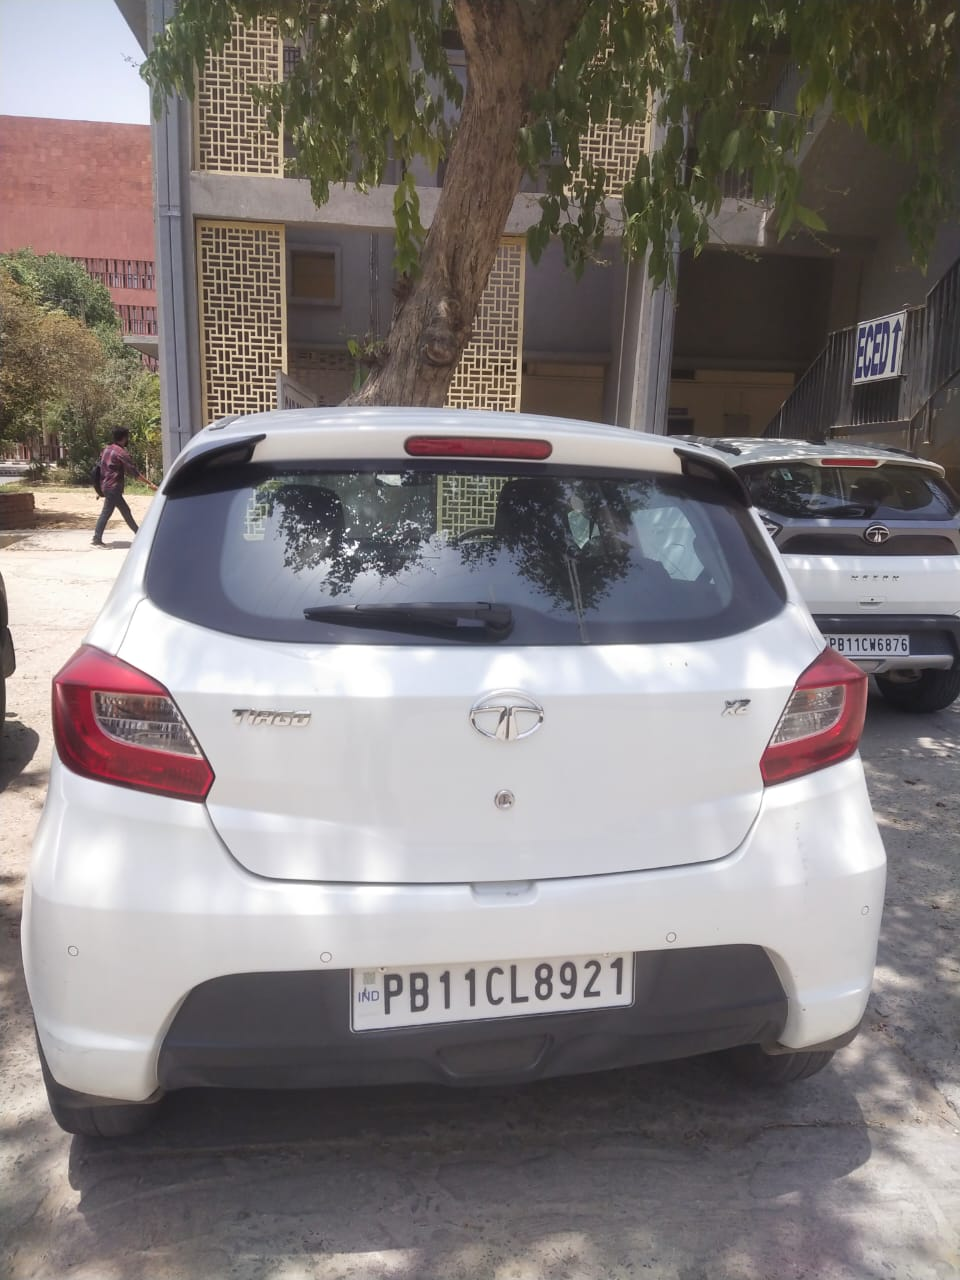license plate: (352, 952, 632, 1030)
